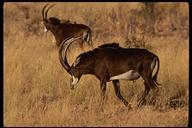antelope: (57, 31, 162, 110), (40, 3, 97, 52)
grass: (5, 37, 53, 125)
